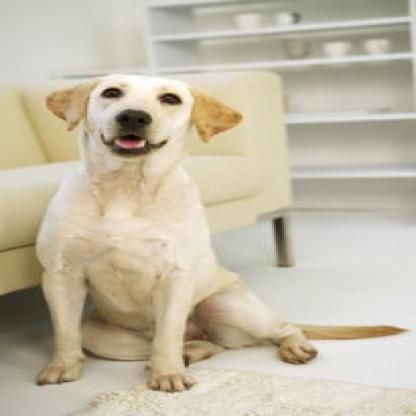Labarador Retriever: (35, 72, 403, 394)
